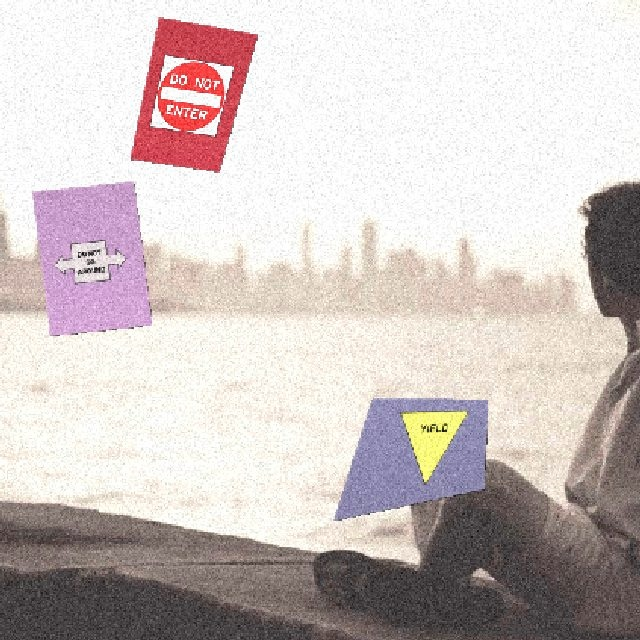DO_NOT_ENTER: (144, 52, 233, 138)
DO_NOT_GO_AROUND: (50, 237, 128, 285)
YIELD: (373, 397, 474, 495)
